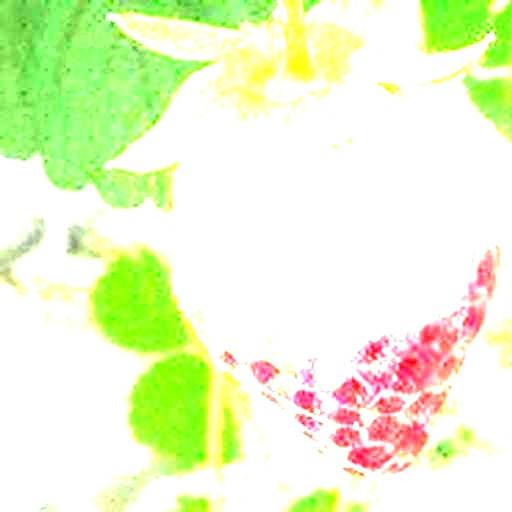Powdery Mildew Fruit: (169, 79, 503, 387)
